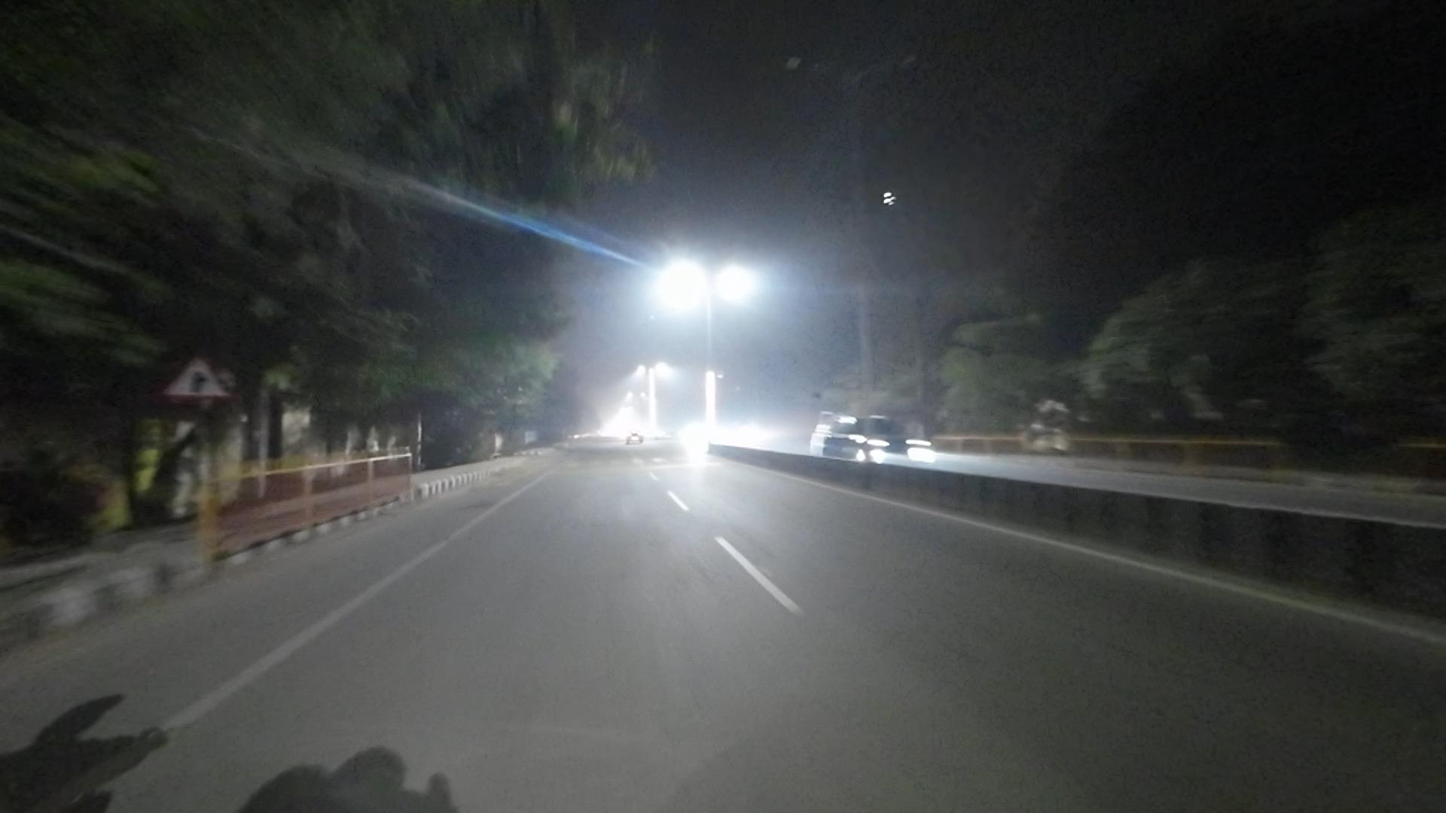streetlight: (855, 51, 915, 77), (784, 53, 834, 84)
